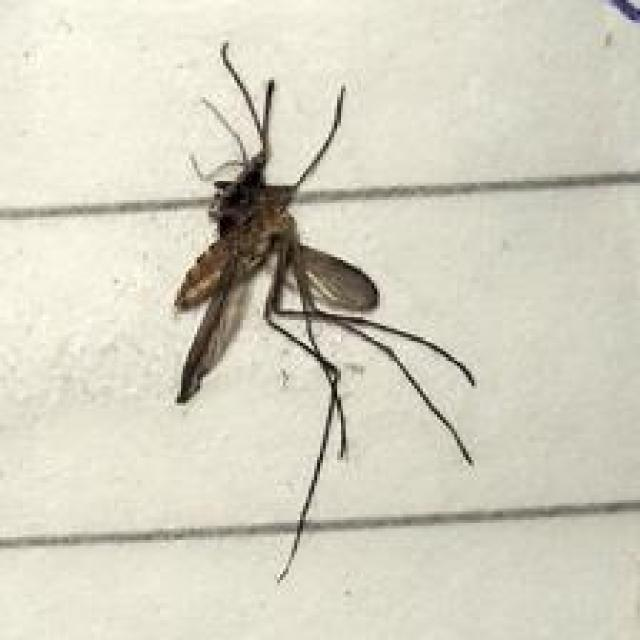Culex: (169, 39, 477, 584)
